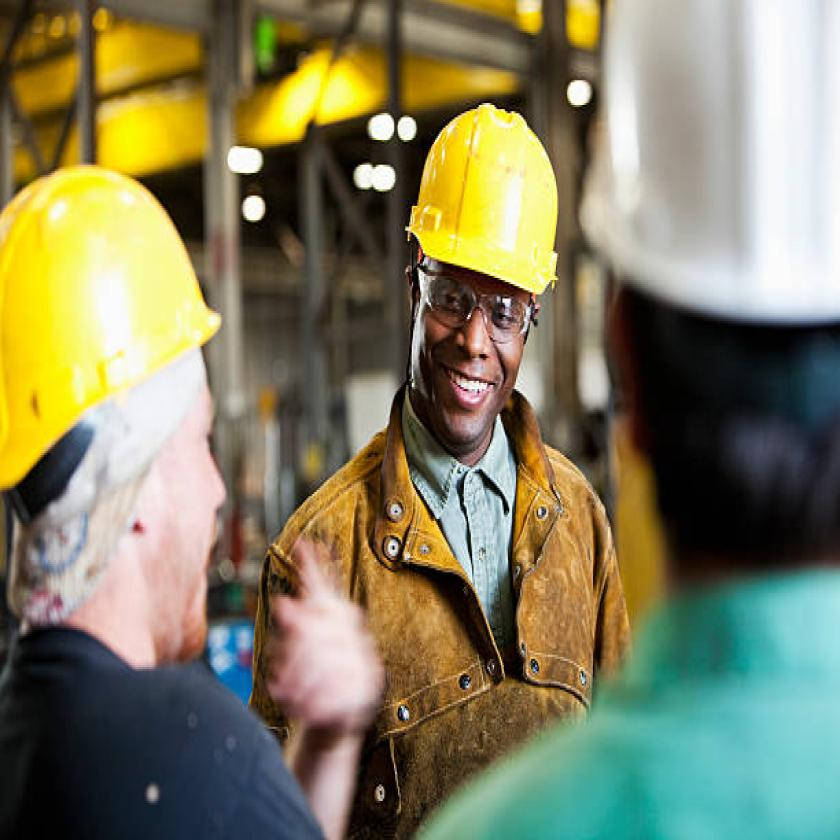Con_casco: (0, 139, 247, 665), (417, 75, 574, 455)
